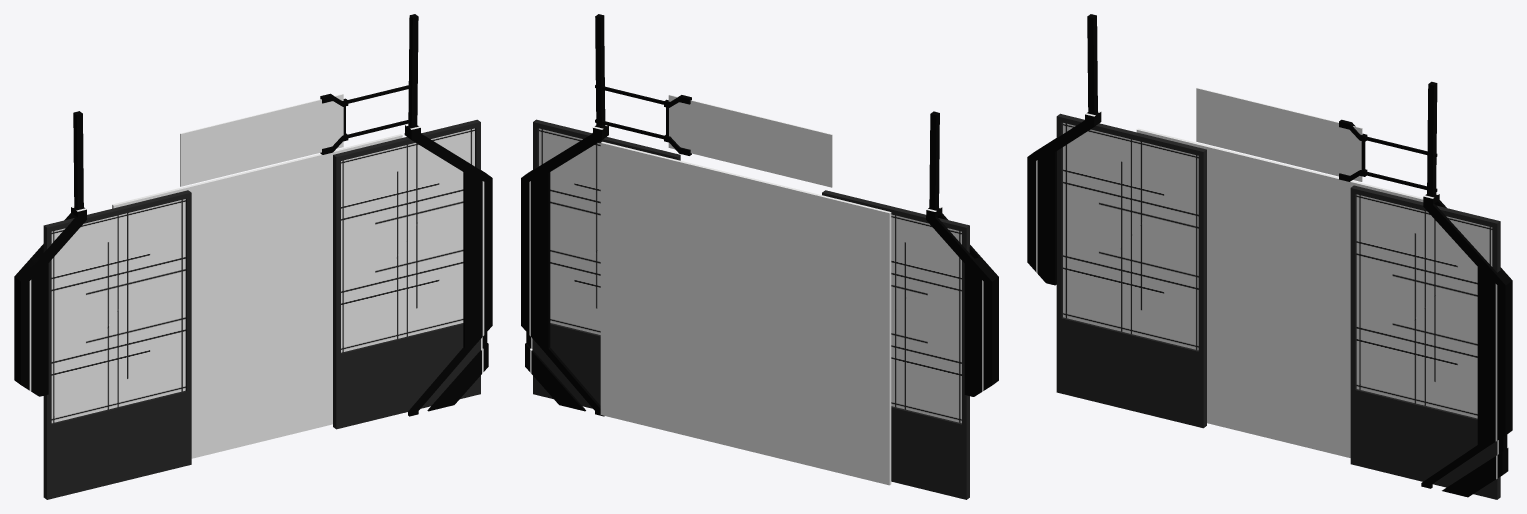
File: shoji_claster.fbx
3 views of the same model, side by side, from view 1: azimuth 30°, elevation 25°; view 2: azimuth 150°, elevation 25°; view 3: azimuth 330°, elevation 25° (orthographic).
Visible parts, largest first — view 1: door_l, light, door_r, pCube10, panel, pCube12, pCube13; view 2: light, door_l, door_r, pCube10, panel, pCube12, pCube13; view 3: door_l, light, door_r, pCube10, panel, pCube12, pCube13.
Boxes of the visible parts, x1,y1,x2,y2 form: door_l: (43, 190, 191, 499); light: (112, 134, 402, 458); door_r: (333, 119, 480, 429); pCube10: (404, 14, 492, 416); panel: (180, 94, 343, 186); pCube12: (14, 111, 86, 396); pCube13: (320, 85, 410, 154); light: (600, 141, 891, 485); door_l: (822, 190, 969, 499); door_r: (533, 119, 680, 408); pCube10: (521, 14, 608, 416); panel: (668, 94, 832, 187); pCube12: (926, 111, 998, 396); pCube13: (595, 85, 691, 155); door_l: (1056, 113, 1206, 428); light: (1136, 128, 1423, 457); door_r: (1350, 185, 1500, 499); pCube10: (1421, 81, 1512, 497); panel: (1196, 88, 1362, 181); pCube12: (1027, 14, 1101, 285); pCube13: (1339, 119, 1437, 192).
Bounding box in the file's own units: 32.63 × 26.22 × 1.12.
